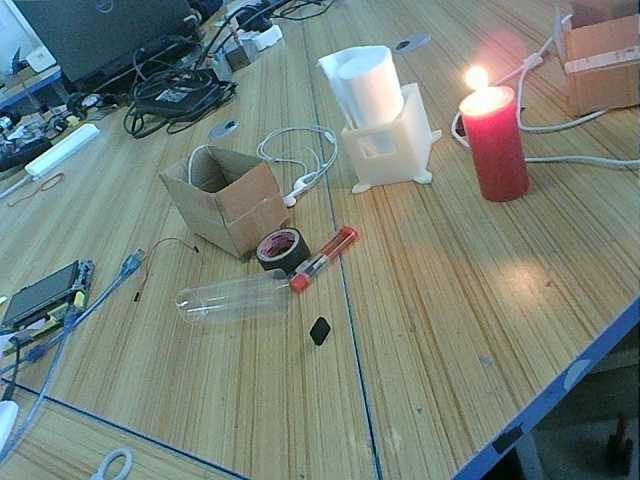candle: (468, 118, 527, 212)
fire: (449, 60, 515, 119)
